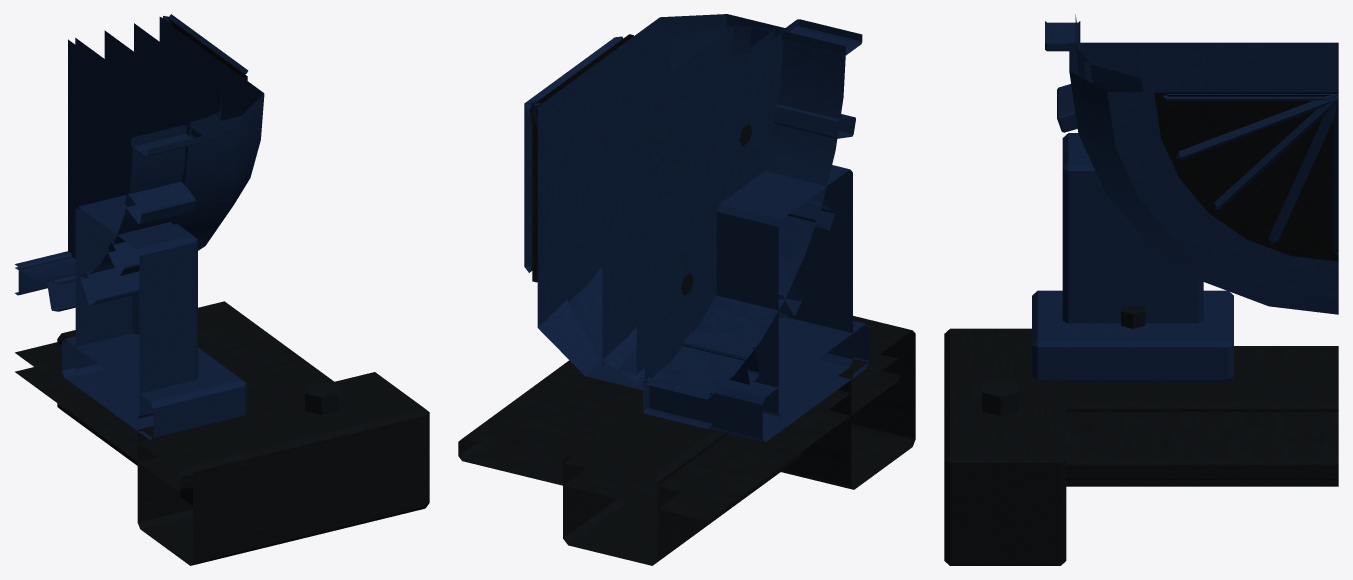
The model's file is cell_11.obj.
3 renders of one model, left to right at view 1: azimuth 30°, elevation 25°; view 2: azimuth 150°, elevation 25°; view 3: azimuth 270°, elevation 25°, orthographic. The views are drawn at different scales.
Parts seen in each view (by area): view 1: cell_11; view 2: cell_11; view 3: cell_11.
Boxes of the visible parts, x1=… form: cell_11: x1=15, y1=14, x2=429, y2=565; cell_11: x1=458, y1=14, x2=915, y2=565; cell_11: x1=944, y1=14, x2=1338, y2=565.
Bounding box in the file's own units: 0.65 × 1 × 0.84.
